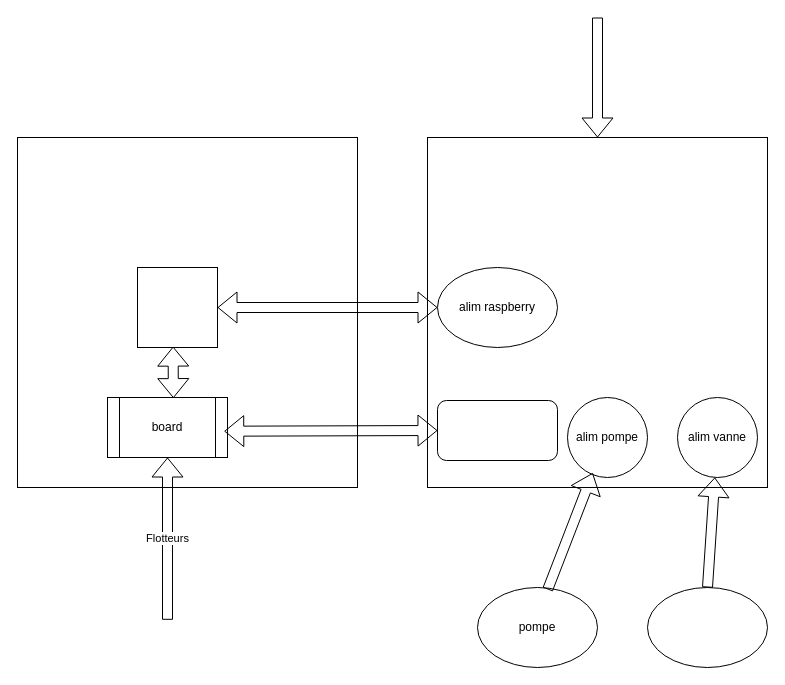
The diagram is 785 pixels wide and 685 high, and some of its shapes have lost their labels. The shapes that lost their labels are listed below. From the top down, each one's centre as x and y in pixels, then its label:
pixel 177 307: raspi
pixel 497 430: optocoupleur
pixel 707 627: vanne
